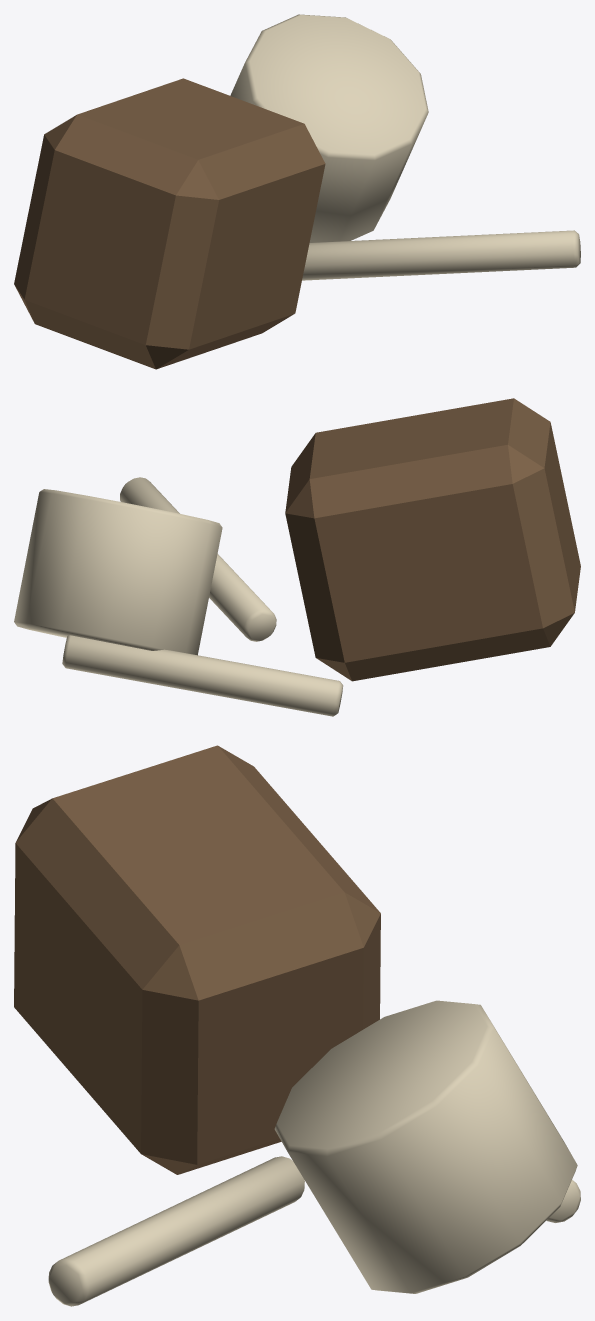
File: wanderer_remains.obj
3 views of the same model, one above another, from view 1: azimuth 30°, elevation 25°; view 2: azimuth 150°, elevation 25°; view 3: azimuth 270°, elevation 25° (orthographic). The views are drawn at different scales.
Parts seen in each view (by area): view 1: Pack, Skull, Rib2; view 2: Pack, Skull, Rib1, Rib2; view 3: Pack, Skull, Rib2, Rib1.
Part boxes in pixels (bbox=[...]): Pack: bbox=[14, 78, 325, 369]; Skull: bbox=[230, 14, 428, 242]; Rib2: bbox=[302, 230, 580, 280]; Pack: bbox=[285, 398, 580, 681]; Skull: bbox=[14, 489, 222, 655]; Rib1: bbox=[62, 635, 343, 716]; Rib2: bbox=[120, 477, 276, 641]; Pack: bbox=[14, 745, 380, 1174]; Skull: bbox=[274, 1000, 577, 1293]; Rib2: bbox=[48, 1156, 304, 1306]; Rib1: bbox=[546, 1180, 580, 1222].
Size of the model in its own units: 0.737 by 0.3443 by 0.5456.
